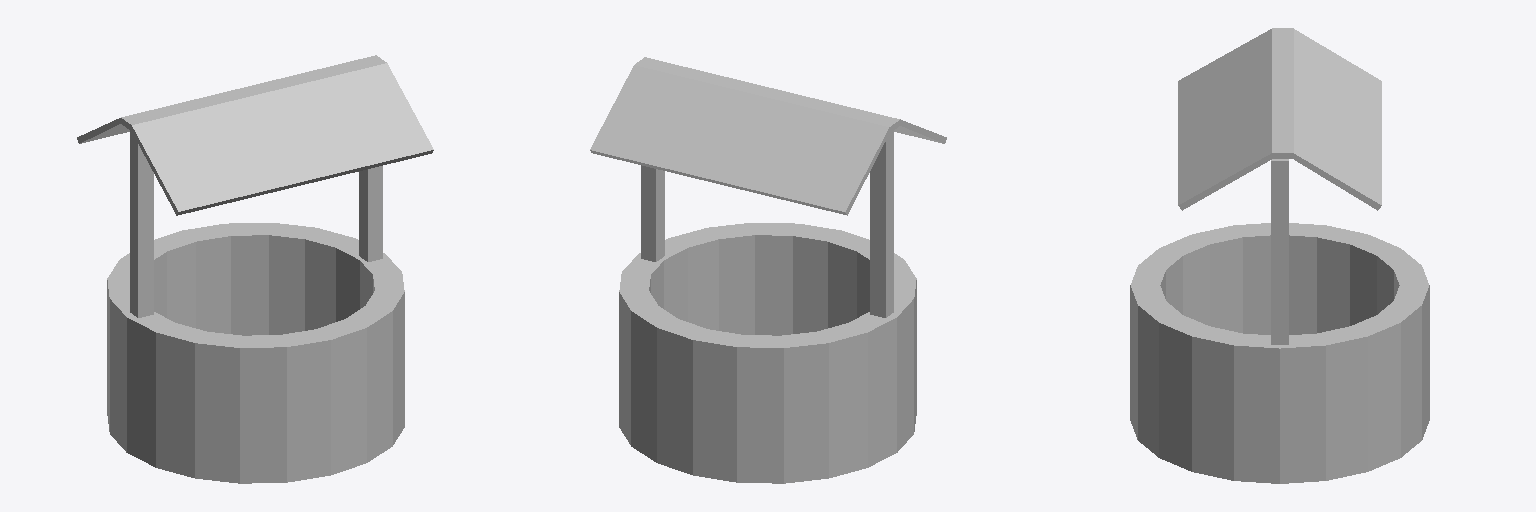
File: pozete.obj
3 renders of one model, left to right at view 1: azimuth 30°, elevation 25°; view 2: azimuth 150°, elevation 25°; view 3: azimuth 270°, elevation 25°, orthographic.
Parts seen in each view (by area): view 1: pozoDePrueba:pPipe5; view 2: pozoDePrueba:pPipe5; view 3: pozoDePrueba:pPipe5.
Part boxes in pixels (x1,y1,x2,y2): pozoDePrueba:pPipe5: (77,55,433,483); pozoDePrueba:pPipe5: (590,57,946,483); pozoDePrueba:pPipe5: (1130,28,1429,483).
Size of the model in its own units: 4.02 by 4.89 by 4.02.